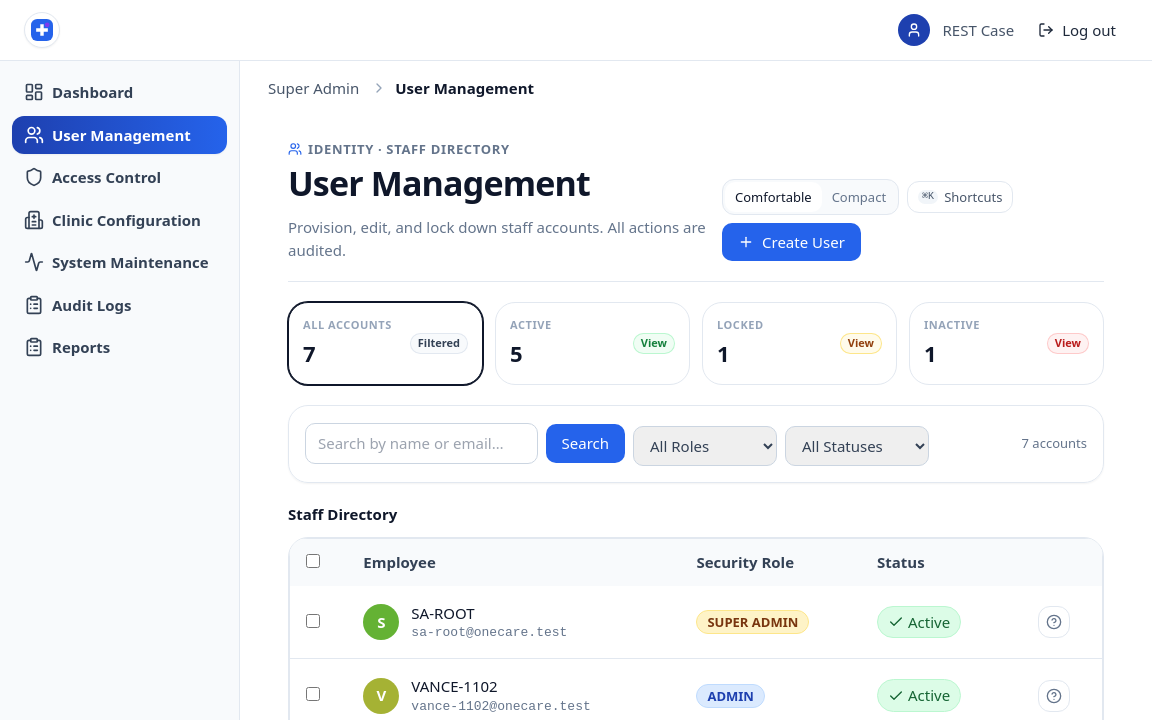
Test case: super-admin user management — REST cases › filters client-side by search and status, then clears back to the full list
Type "kapior" into the search field labelled "Search" at (421, 444), box [305,423,538,464]
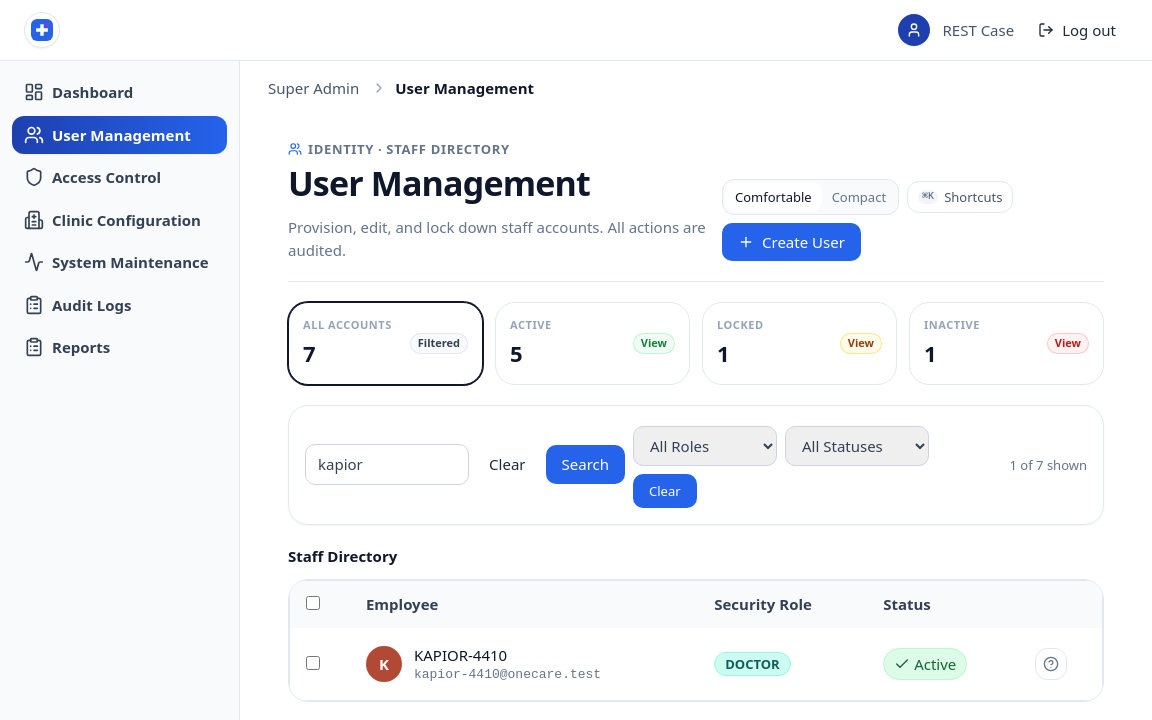
Expected: the text "KAPIOR-4410" is shown, [414,645,507,665]
Now the text "1 of 7 shown" is shown, box [1010,456,1087,474]
Now the text "VANCE-1102" is gone
Select "Locked" in the 2nd dropdown at (857, 446), box [785,426,929,466]
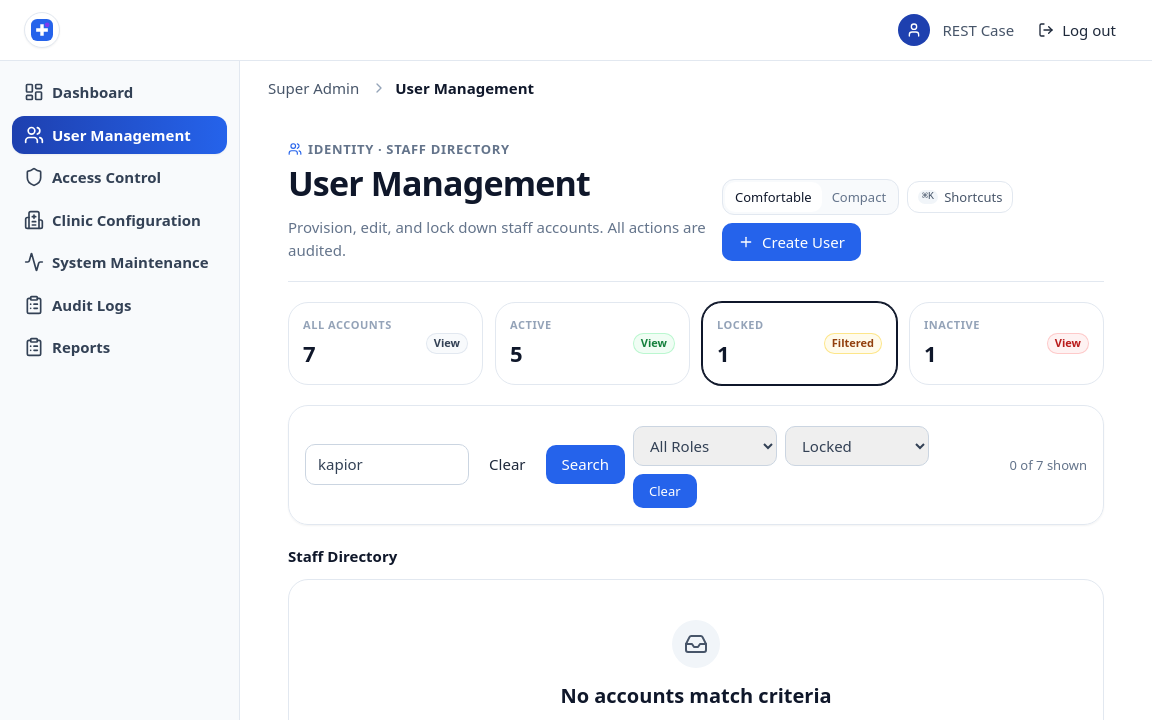
Click the 1st button "Clear" at (507, 465), box [477,447,538,482]
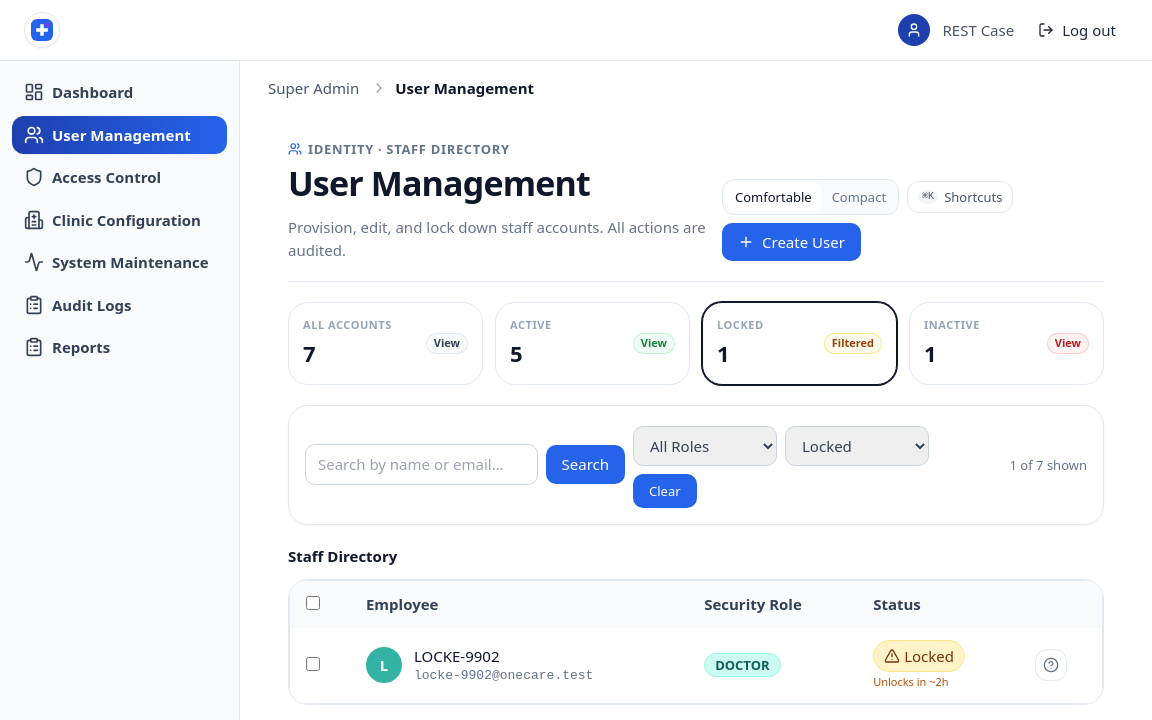
Click the button "Clear" at (665, 491), box [633,474,697,508]
(page scrolled)
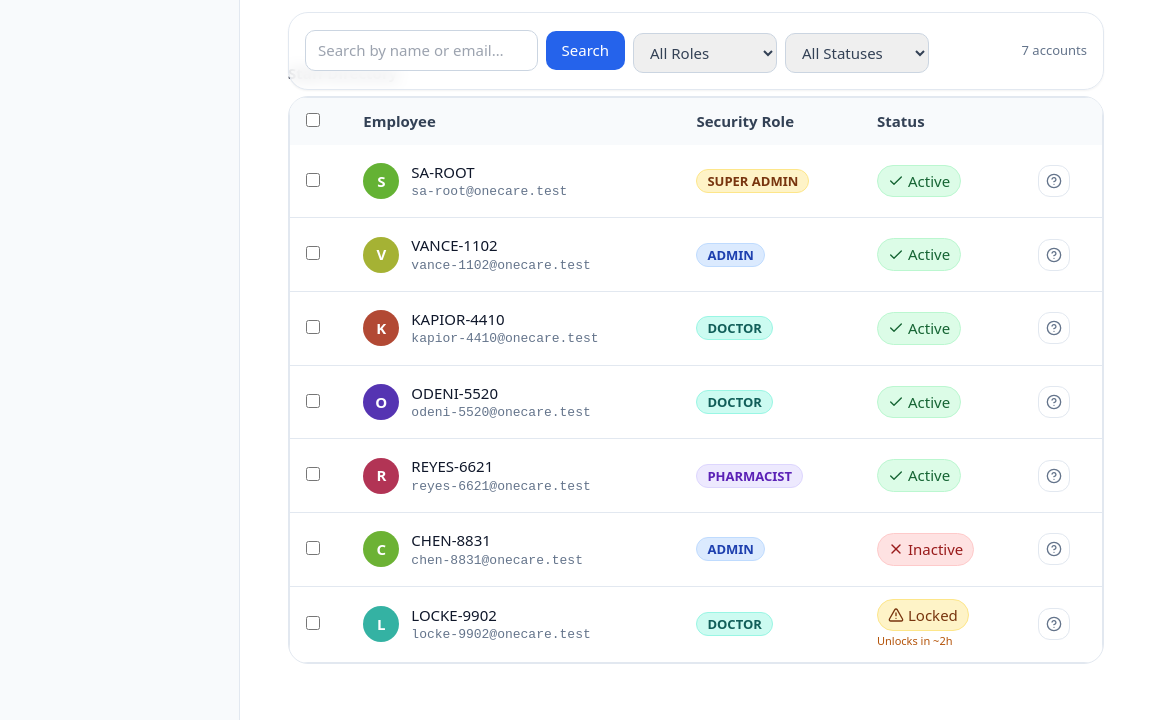
Now the text "LOCKE-9902" is shown, box [411,605,497,625]
Now the text "7 accounts" is shown, box [1022,42,1087,60]
